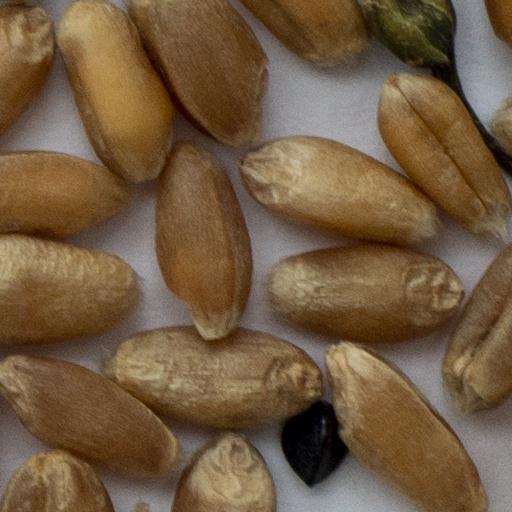Fallopia-Convolvulus-poly: (283, 403, 338, 483)
